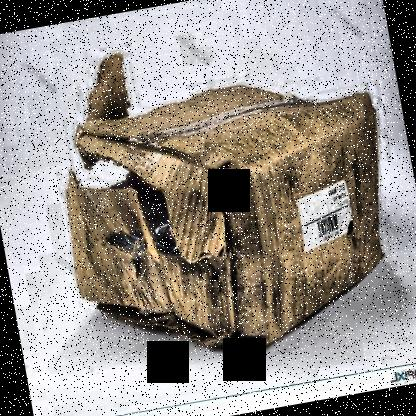defect parcel: (41, 12, 332, 390)
